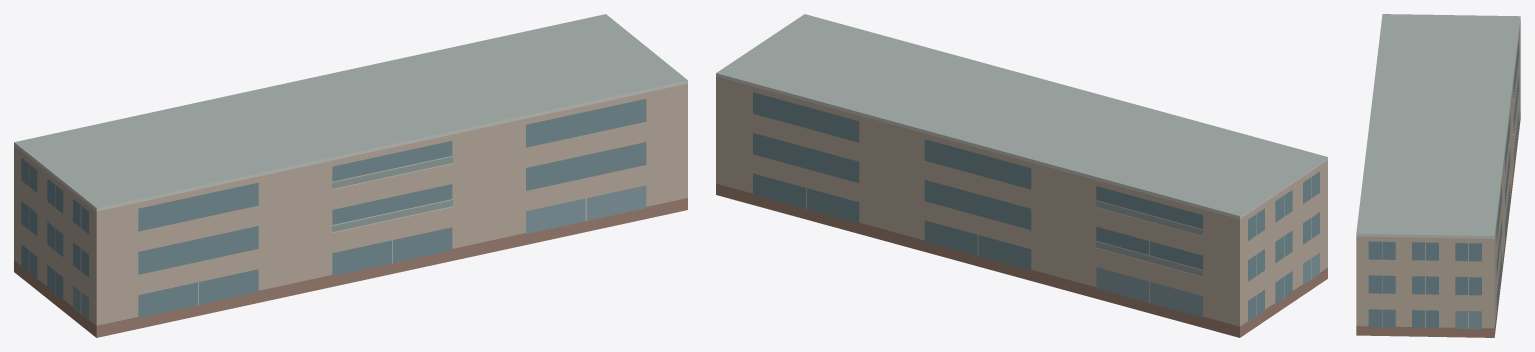
The model's file is survey-upis-32886332.glb.
3 views of the same model, side by side, from view 1: azimuth 30°, elevation 25°; view 2: azimuth 150°, elevation 25°; view 3: azimuth 270°, elevation 25° (orthographic). The views are drawn at different scales.
Parts seen in each view (by area): view 1: survey-upis-32886332.tmp; view 2: survey-upis-32886332.tmp; view 3: survey-upis-32886332.tmp.
Part boxes in pixels (box(x1,y1,x2,y2)): survey-upis-32886332.tmp: box(14, 14, 687, 337); survey-upis-32886332.tmp: box(716, 14, 1327, 337); survey-upis-32886332.tmp: box(1356, 14, 1520, 337).
Bounding box in the file's own units: 42.85 × 9.15 × 13.41.
